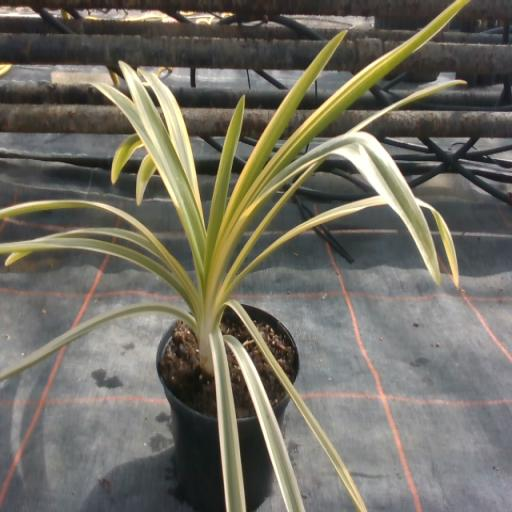Agapanthus-praecox: (235, 0, 469, 212), (216, 132, 434, 283), (228, 301, 365, 510), (220, 31, 346, 233), (120, 62, 205, 279), (0, 201, 191, 290), (0, 303, 194, 381), (224, 335, 304, 511), (231, 197, 384, 287), (226, 162, 321, 277), (0, 238, 178, 290), (143, 74, 198, 202), (206, 99, 244, 269), (210, 329, 245, 511), (349, 80, 466, 130), (94, 83, 162, 166), (416, 198, 458, 285), (55, 229, 156, 254), (111, 134, 142, 182), (136, 154, 156, 204), (6, 252, 30, 265)
